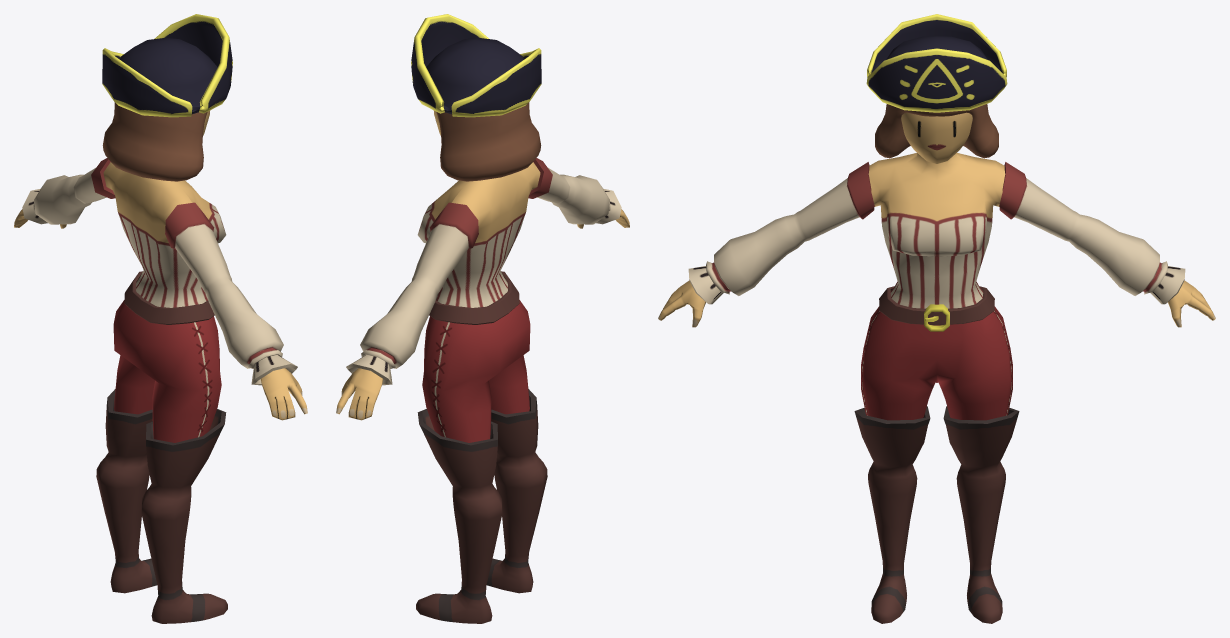
Rendered from Pirate_Woman.glb.
The picture shows the model from 3 angles, left to right: view 1: azimuth 30°, elevation 25°; view 2: azimuth 150°, elevation 25°; view 3: azimuth 270°, elevation 25°; orthographic projection. The views are drawn at different scales.
Visible parts, largest first — view 1: mesh_char_110; view 2: mesh_char_110; view 3: mesh_char_110.
Part boxes in pixels (box(x1,y1,x2,y2)): mesh_char_110: box(14, 14, 307, 623); mesh_char_110: box(336, 14, 629, 623); mesh_char_110: box(658, 14, 1215, 623).
Bounding box in the file's own units: 0.9069 × 4.37 × 3.79.
1 material, 1 textured.
